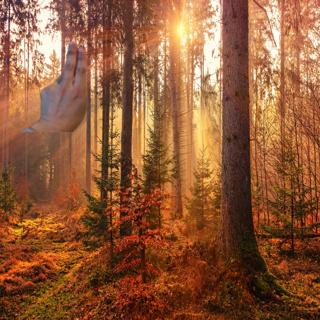DHAVE: (35, 38, 92, 127)
